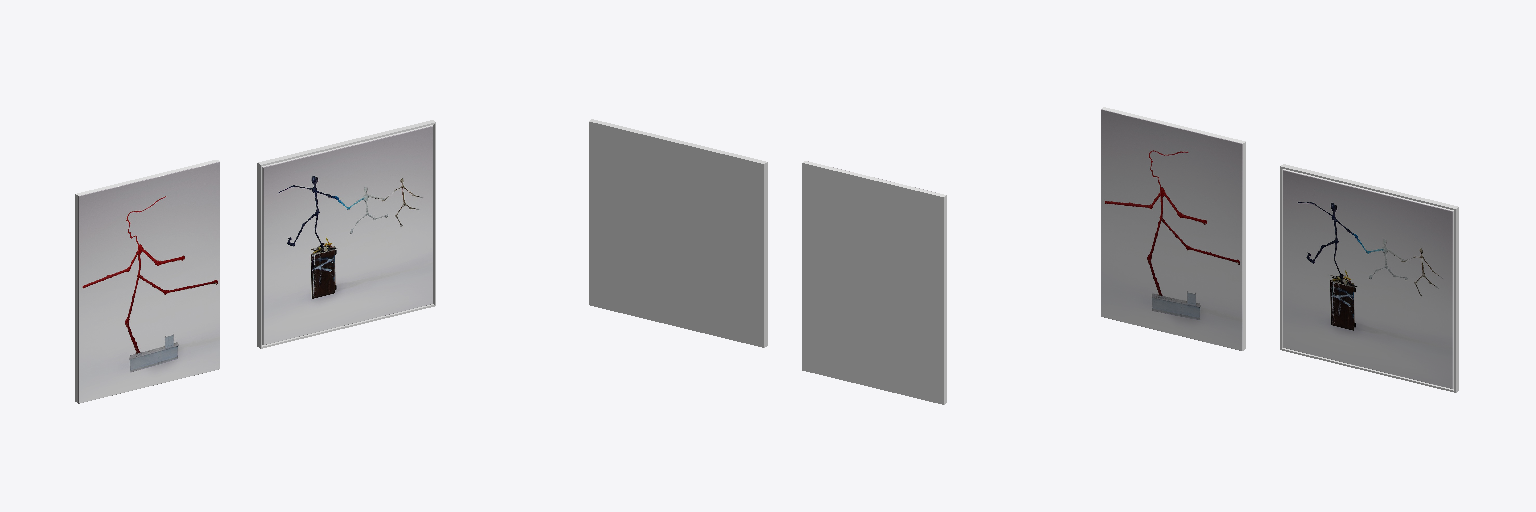
The picture shows the model from 3 angles: view 1: azimuth 30°, elevation 25°; view 2: azimuth 150°, elevation 25°; view 3: azimuth 330°, elevation 25°; orthographic projection.
Visible parts, largest first — view 1: Leinwand, Leinwand1, Rahmen, Leinwand3; view 2: Rahmen, Leinwand3; view 3: Leinwand, Leinwand1, Rahmen, Leinwand3.
Boxes of the visible parts, x1=… form: Leinwand: x1=263, y1=126, x2=432, y2=344; Leinwand1: x1=78, y1=162, x2=219, y2=403; Rahmen: x1=257, y1=120, x2=435, y2=348; Leinwand3: x1=75, y1=160, x2=219, y2=402; Rahmen: x1=589, y1=119, x2=767, y2=347; Leinwand3: x1=802, y1=161, x2=946, y2=404; Leinwand: x1=1283, y1=170, x2=1452, y2=388; Leinwand1: x1=1101, y1=109, x2=1242, y2=350; Rahmen: x1=1280, y1=164, x2=1458, y2=392; Leinwand3: x1=1102, y1=107, x2=1245, y2=350.
Size of the model in its own units: 12.57 by 7 by 0.2914.
4 materials, 2 textured.